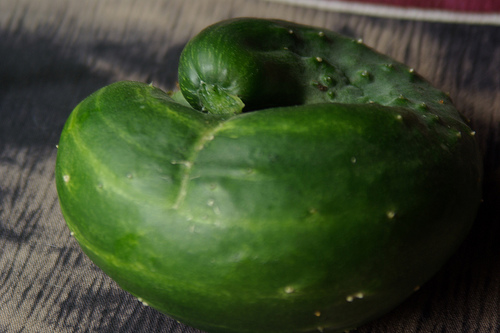cucumber: (53, 17, 486, 332)
